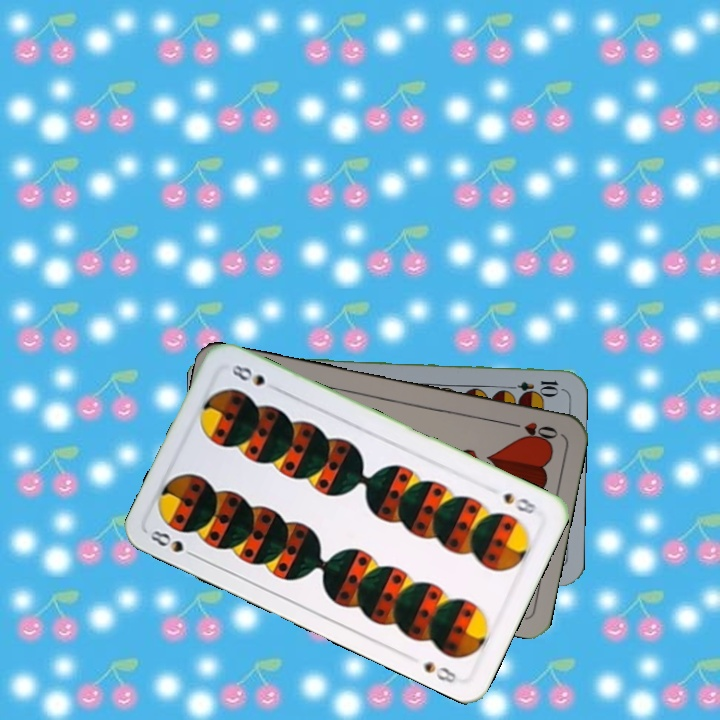E10: (502, 376, 561, 395)
HO: (503, 418, 561, 445)
S8: (146, 526, 201, 561), (499, 488, 540, 517)
